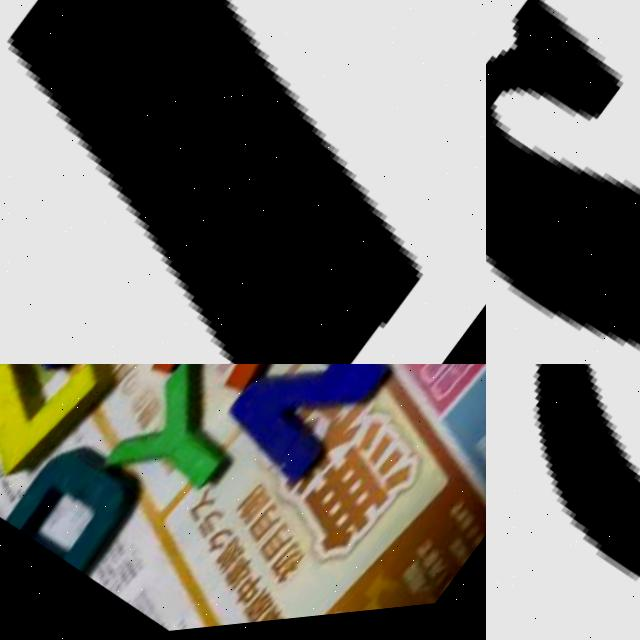9: (486, 364, 640, 640)
D: (5, 427, 158, 585)
E: (0, 364, 32, 453)
I: (9, 0, 431, 364), (141, 364, 335, 434)
L: (0, 364, 121, 492)
N: (216, 364, 409, 507)
S: (486, 0, 640, 364)
Y: (106, 364, 265, 526)
